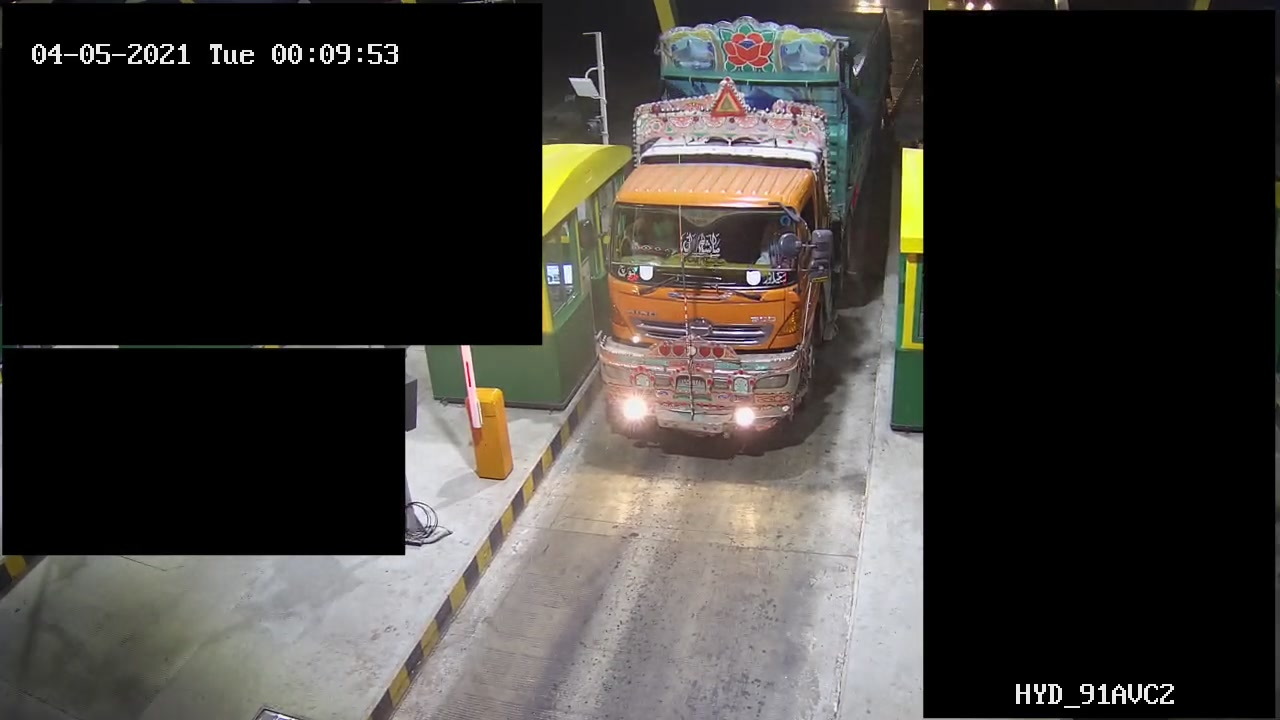F6: (591, 10, 893, 462)
